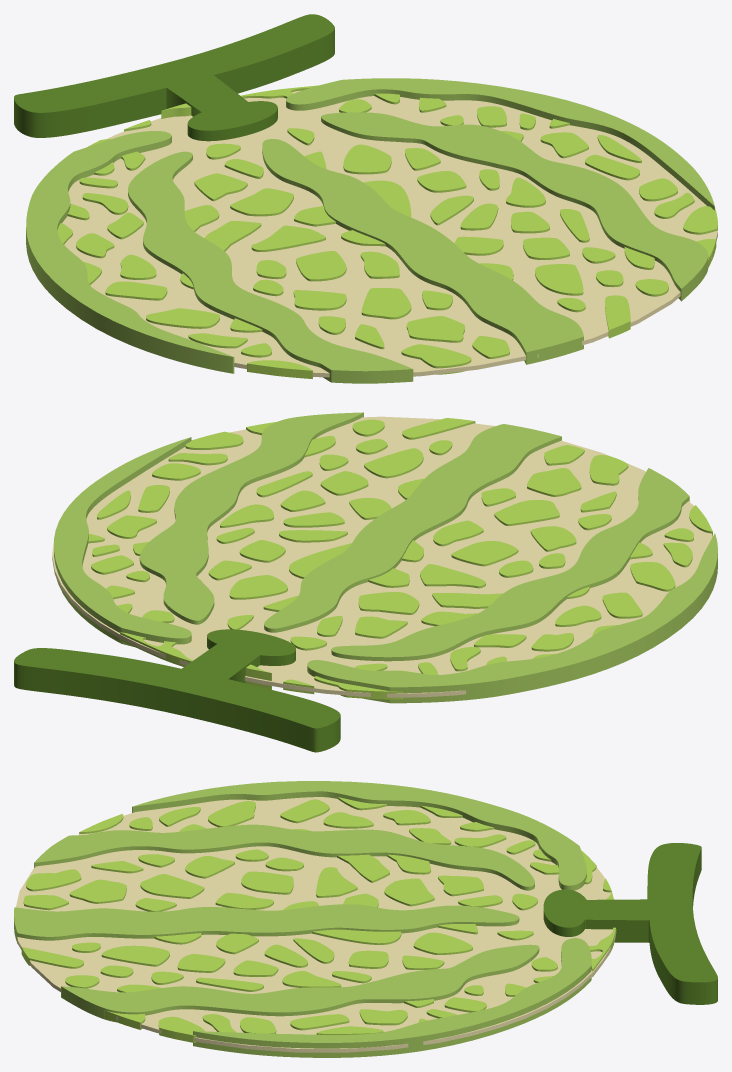
File: emoji_u1f348.glb
3 views of the same model, one above another, from view 1: azimuth 30°, elevation 25°; view 2: azimuth 150°, elevation 25°; view 3: azimuth 270°, elevation 25° (orthographic). The views are drawn at different scales.
Visible parts, largest first — view 1: emoji_u1f348; view 2: emoji_u1f348; view 3: emoji_u1f348.
Boxes of the visible parts, bbox=[...] form: emoji_u1f348: bbox=[14, 14, 717, 383]; emoji_u1f348: bbox=[14, 412, 717, 752]; emoji_u1f348: bbox=[14, 781, 717, 1057].
Size of the model in its own units: 0.0301 by 0.0012 by 0.0341.
